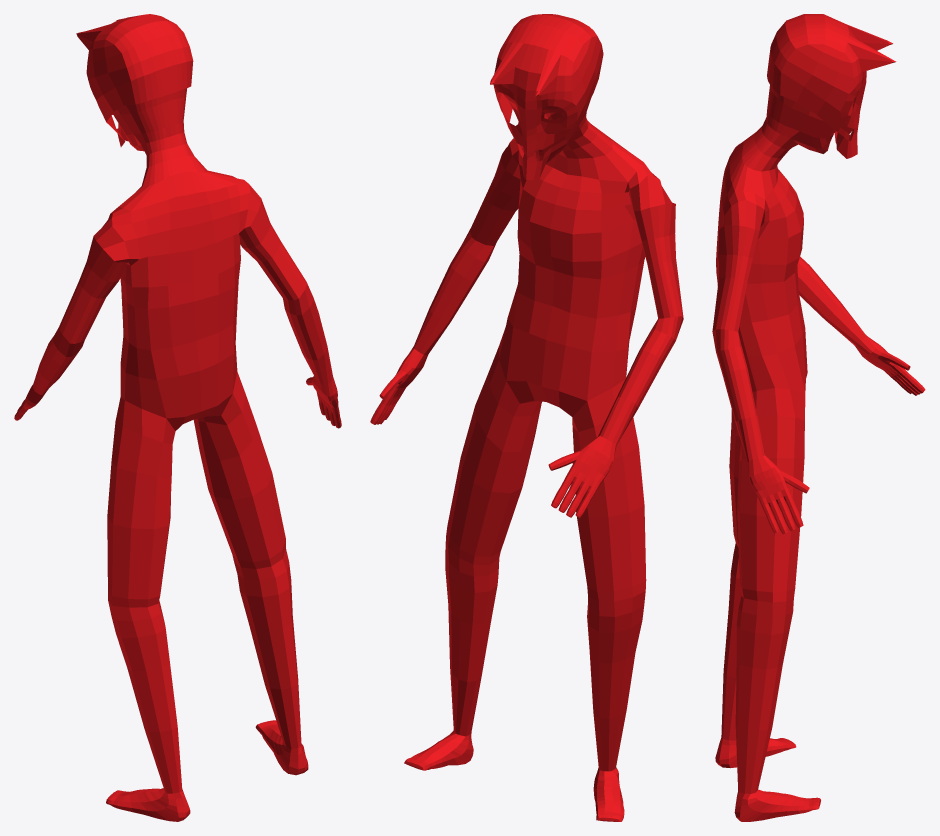
The model's file is reposoE_000308.obj.
3 views of the same model, side by side, from view 1: azimuth 30°, elevation 25°; view 2: azimuth 150°, elevation 25°; view 3: azimuth 270°, elevation 25° (orthographic). The views are drawn at different scales.
Visible parts, largest first — view 1: Plane.002_Plane.001; view 2: Plane.002_Plane.001; view 3: Plane.002_Plane.001.
Part boxes in pixels (bbox=[...]): Plane.002_Plane.001: bbox=[14, 14, 341, 821]; Plane.002_Plane.001: bbox=[370, 14, 683, 821]; Plane.002_Plane.001: bbox=[712, 14, 925, 821].
Size of the model in its own units: 2.76 by 7.13 by 1.84.
